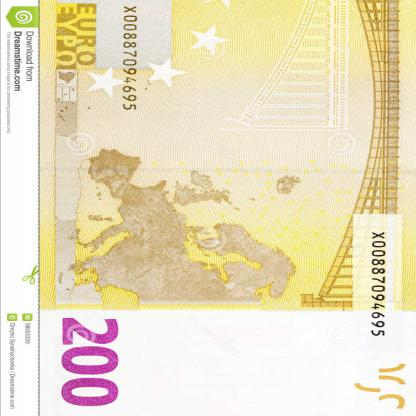euro_banknote: (21, 21, 416, 397)
